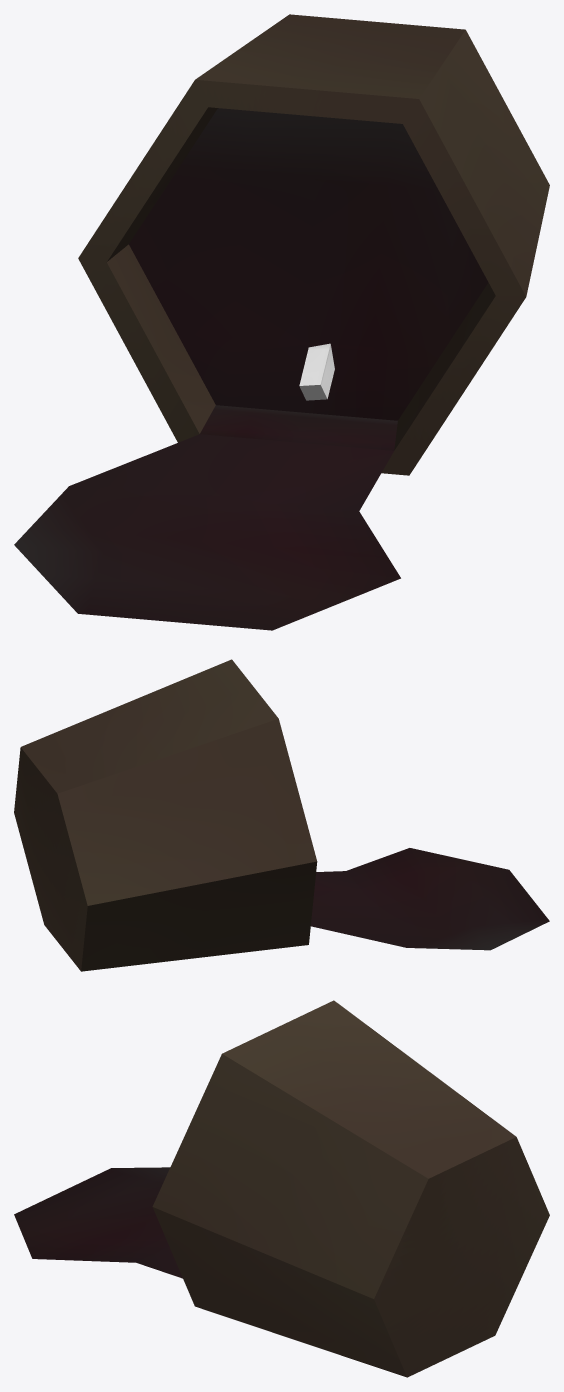
The model's file is SM_Candle_01.fbx.
3 views of the same model, one above another, from view 1: azimuth 30°, elevation 25°; view 2: azimuth 150°, elevation 25°; view 3: azimuth 270°, elevation 25° (orthographic). The views are drawn at different scales.
Visible parts, largest first — view 1: SM_Candle_01; view 2: SM_Candle_01; view 3: SM_Candle_01.
Boxes of the visible parts, x1,y1,x2,y2 form: SM_Candle_01: (14,14,549,630); SM_Candle_01: (14,659,549,971); SM_Candle_01: (14,1000,549,1377).
Size of the model in its own units: 7.69 by 4.05 by 7.44.
